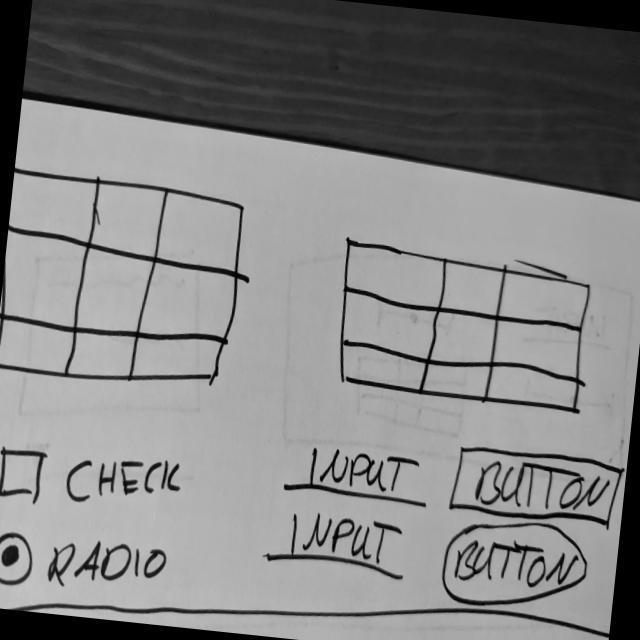button: (447, 442, 628, 534), (439, 512, 594, 619)
checkbox: (1, 436, 191, 523)
input: (263, 505, 416, 584), (280, 438, 434, 513)
radio: (1, 531, 36, 591)
table: (1, 162, 252, 399), (328, 234, 597, 421)
